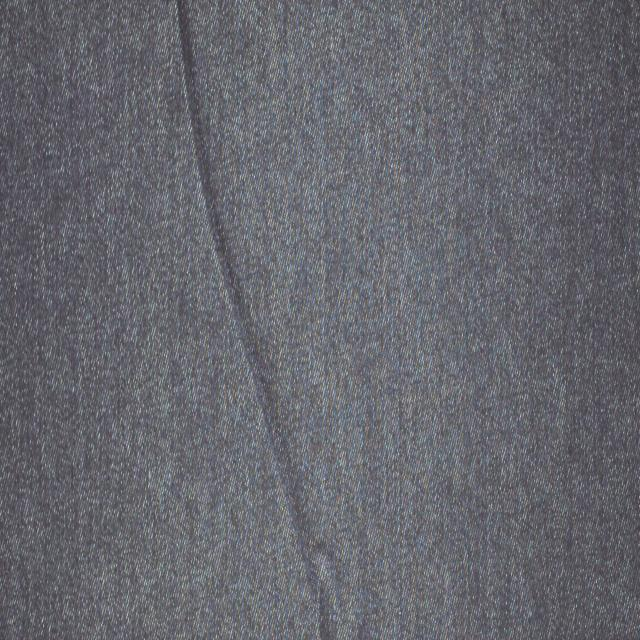defect: (170, 2, 337, 640)
